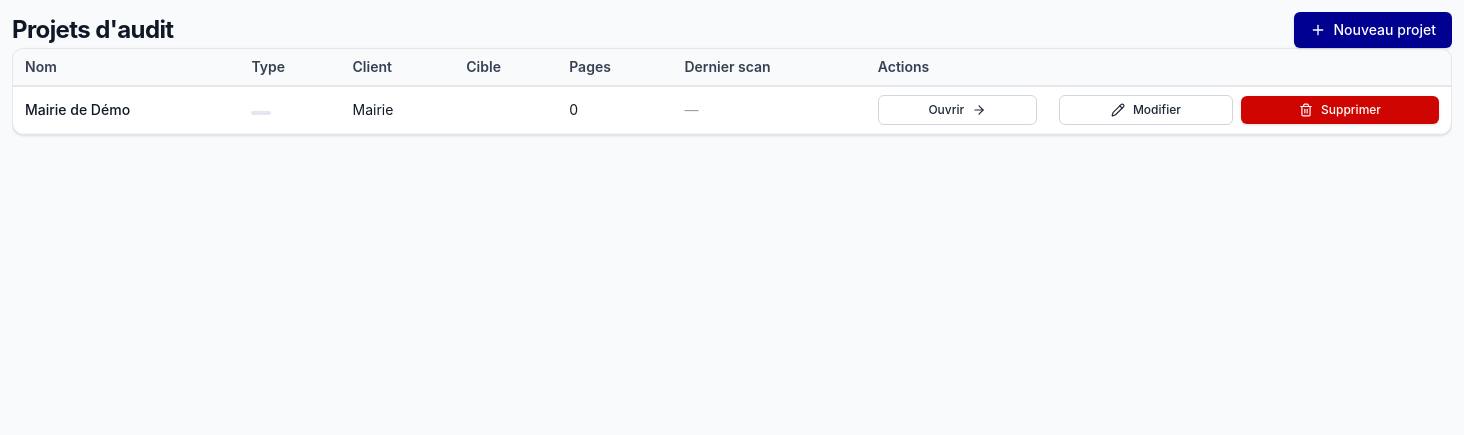
Test case: ProjetsPage › ouvre le formulaire de création via le CTA
This screenshot has width=1464, height=435.
Expected: the link "Mairie de Démo" is shown, [25,101,130,118]
Expected: the field labelled "Nom du projet" is not shown
Click the button "Nouveau projet" at (1373, 30), box [1294,12,1452,48]
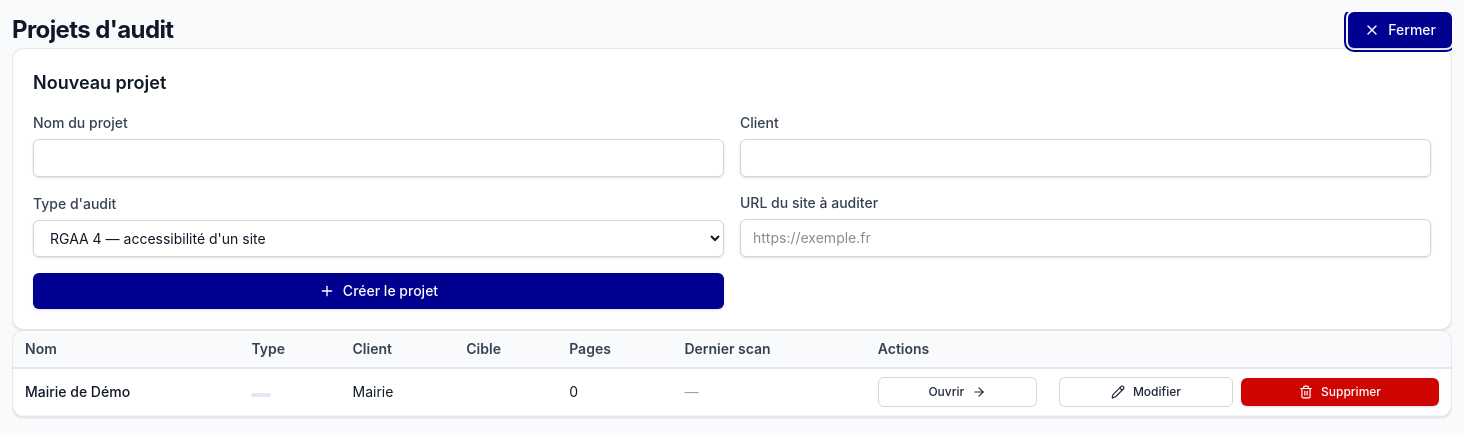
Result: the field labelled "Nom du projet" is shown at [33,139,724,177]
Result: the dropdown labelled "Type d'audit" is shown at [33,220,724,257]
Result: the field labelled "URL du site à auditer" is shown at [740,219,1431,257]
